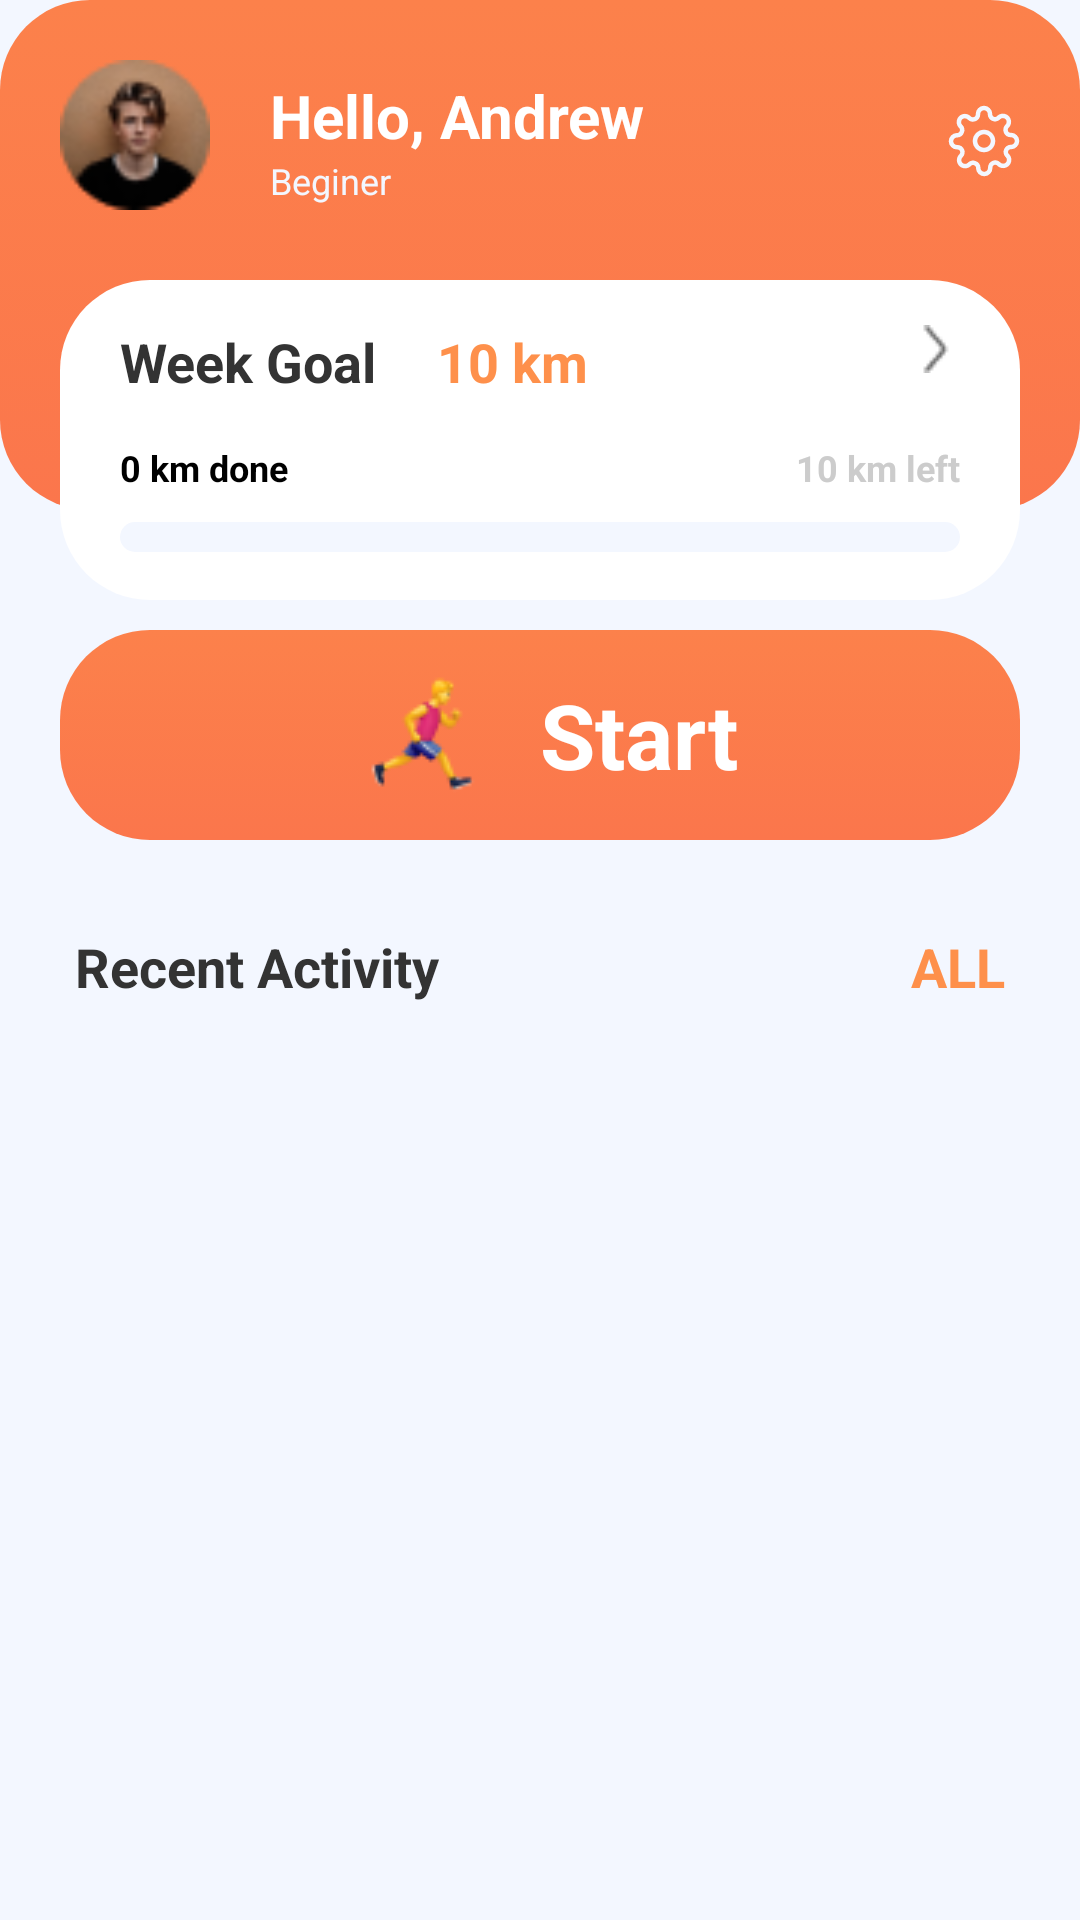

Named icons in this screenshot (1080x1920) and their centers, point (x, y):
gear: point (984, 141)
profile: point (135, 135)
right: point (936, 349)
running: point (421, 734)
